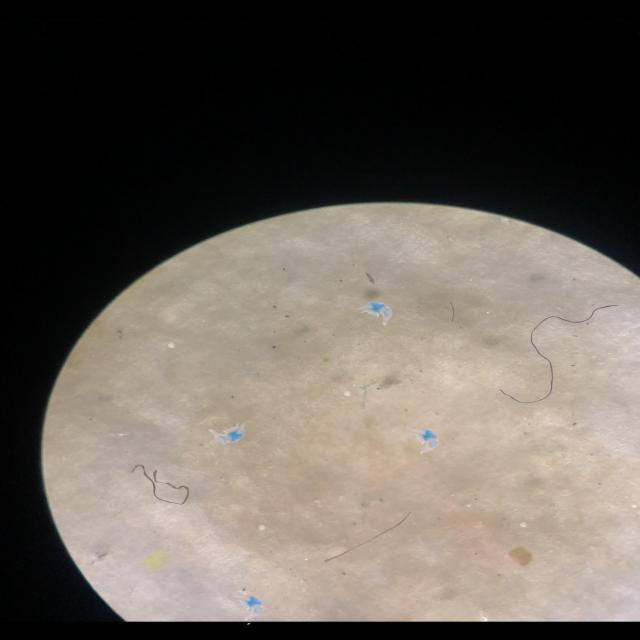fiber: (507, 302, 623, 410), (320, 509, 420, 565), (130, 460, 198, 514)
film: (234, 591, 274, 621), (207, 427, 259, 449), (412, 423, 443, 454), (359, 304, 399, 328)
fragment: (140, 550, 175, 576), (501, 545, 537, 569)
pallet: (339, 386, 357, 404), (255, 521, 273, 537), (517, 520, 535, 533), (165, 339, 183, 349)
